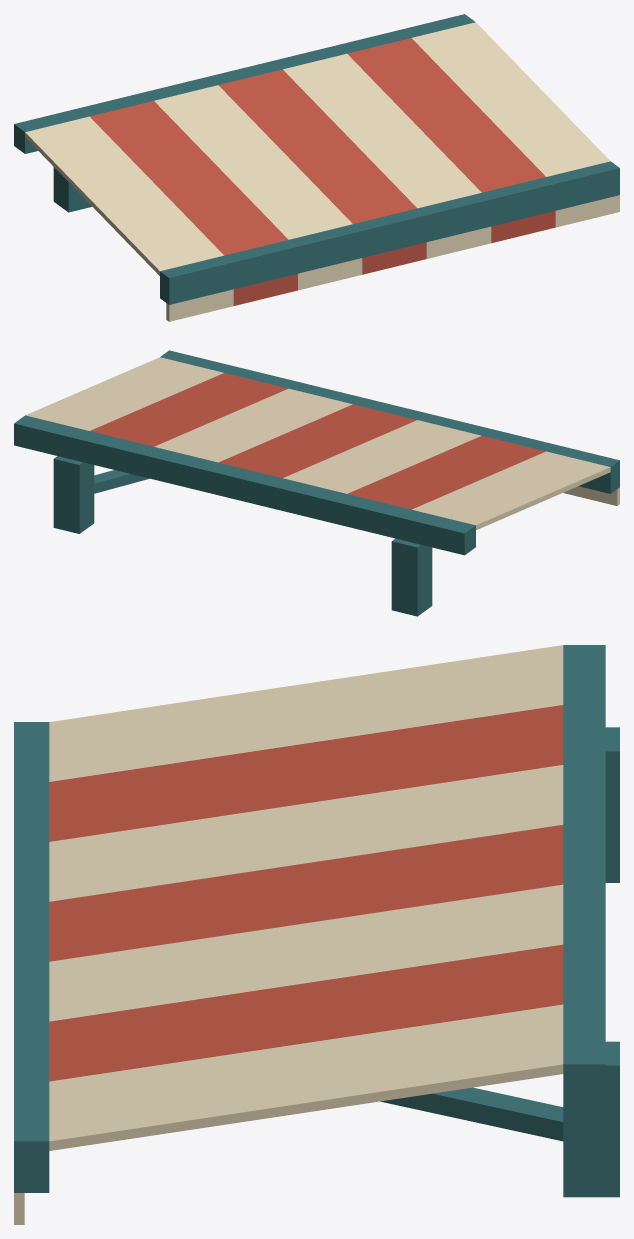
3 views of the same model, one above another, from view 1: azimuth 30°, elevation 25°; view 2: azimuth 150°, elevation 25°; view 3: azimuth 270°, elevation 25° (orthographic). The views are drawn at different scales.
Parts seen in each view (by area): view 1: WholeThickStripedCanopy, ContinuousFrontBar, WholeThickStripedValance, ContinuousRearCassette, LeftWallEndPlate; view 2: WholeThickStripedCanopy, ContinuousRearCassette, ContinuousFrontBar, LeftWallEndPlate, RightWallEndPlate, RightRearAngledArm, WholeThickStripedValance; view 3: WholeThickStripedCanopy, ContinuousRearCassette, ContinuousFrontBar, RightWallEndPlate, RightRearAngledArm, LeftWallEndPlate.
Part boxes in pixels (x1,y1,x2,y2): WholeThickStripedCanopy: [25, 22, 610, 275]; ContinuousFrontBar: [160, 161, 619, 304]; WholeThickStripedValance: [166, 195, 619, 321]; ContinuousRearCassette: [14, 14, 475, 153]; LeftWallEndPlate: [53, 167, 92, 212]; WholeThickStripedCanopy: [25, 357, 610, 530]; ContinuousRearCassette: [14, 415, 475, 555]; ContinuousFrontBar: [160, 350, 619, 493]; LeftWallEndPlate: [391, 538, 432, 616]; RightWallEndPlate: [53, 456, 94, 533]; RightRearAngledArm: [94, 470, 149, 493]; WholeThickStripedValance: [563, 486, 619, 505]; WholeThickStripedCanopy: [49, 645, 563, 1150]; ContinuousRearCassette: [563, 645, 605, 1105]; ContinuousFrontBar: [14, 722, 49, 1192]; RightWallEndPlate: [563, 1041, 619, 1197]; RightRearAngledArm: [380, 1087, 563, 1141]; LeftWallEndPlate: [605, 727, 619, 882].
Size of the model in its own units: 2.8 by 0.54 by 1.71.
